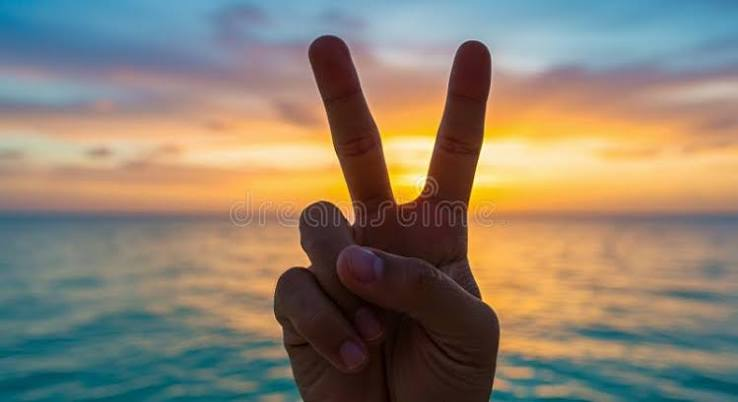peace_sign: (265, 19, 507, 392)
